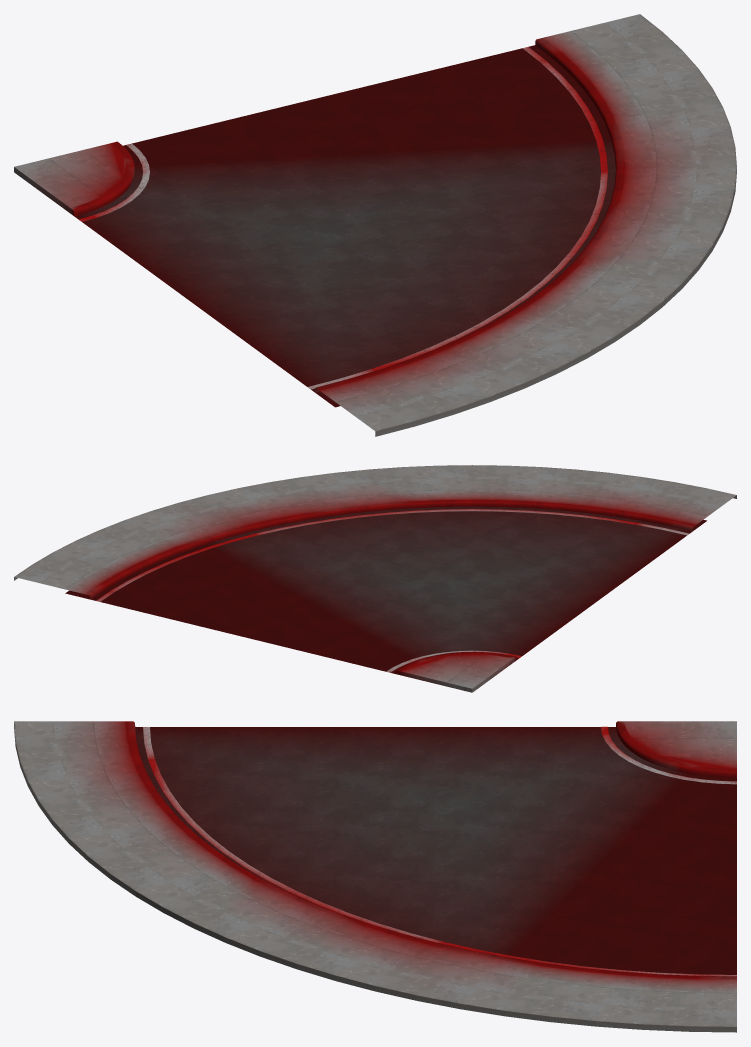
File: Street_Curve_4LaneShort.glb
3 views of the same model, one above another, from view 1: azimuth 30°, elevation 25°; view 2: azimuth 150°, elevation 25°; view 3: azimuth 270°, elevation 25° (orthographic). The views are drawn at different scales.
Parts seen in each view (by area): view 1: Street_Curve_4LaneShort; view 2: Street_Curve_4LaneShort; view 3: Street_Curve_4LaneShort.
Boxes of the visible parts, x1,y1,x2,y2 form: Street_Curve_4LaneShort: (14,14,736,436); Street_Curve_4LaneShort: (14,465,736,692); Street_Curve_4LaneShort: (14,721,736,1032).
Size of the model in its own units: 18 by 0.1505 by 18.
3 materials, 3 textured.
